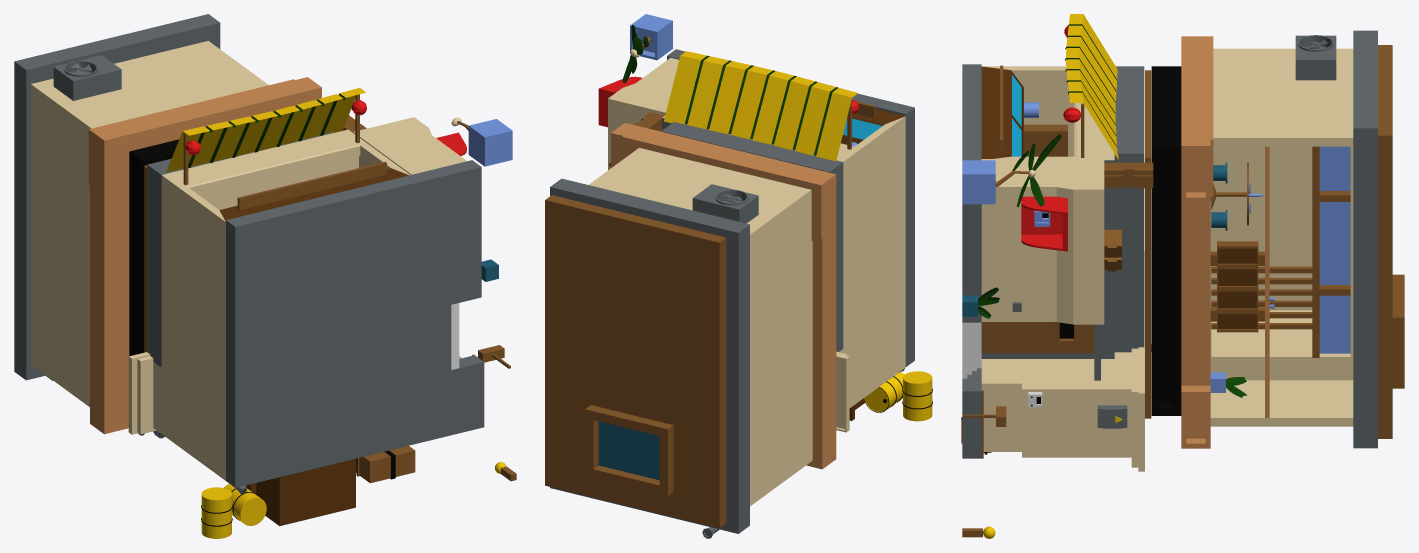
File: House_2.fbx
3 views of the same model, side by side, from view 1: azimuth 30°, elevation 25°; view 2: azimuth 150°, elevation 25°; view 3: azimuth 270°, elevation 25° (orthographic). The views are drawn at different scales.
Parts seen in each view (by area): view 1: Cube.250; view 2: Cube.250; view 3: Cube.250.
Boxes of the visible parts, x1,y1,x2,y2 form: Cube.250: (14, 14, 516, 538); Cube.250: (545, 14, 932, 538); Cube.250: (961, 14, 1404, 538).
Size of the model in its own units: 4696 by 5427 by 5633.
